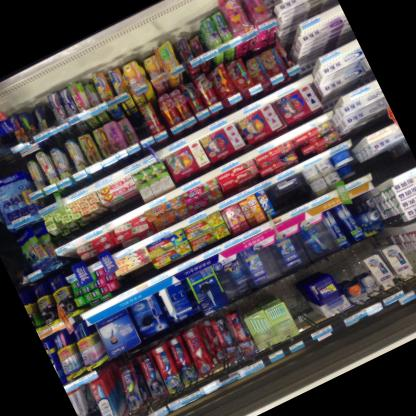empty_space: (287, 286, 322, 339)
